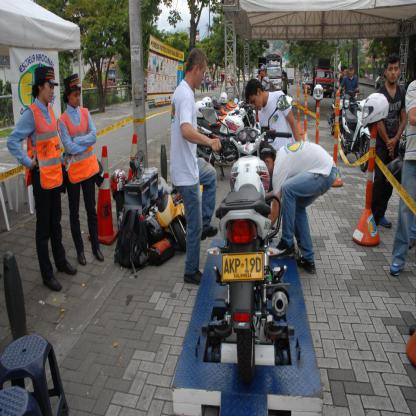motorcycle: (203, 95, 297, 381), (199, 99, 260, 185), (329, 85, 360, 133)
